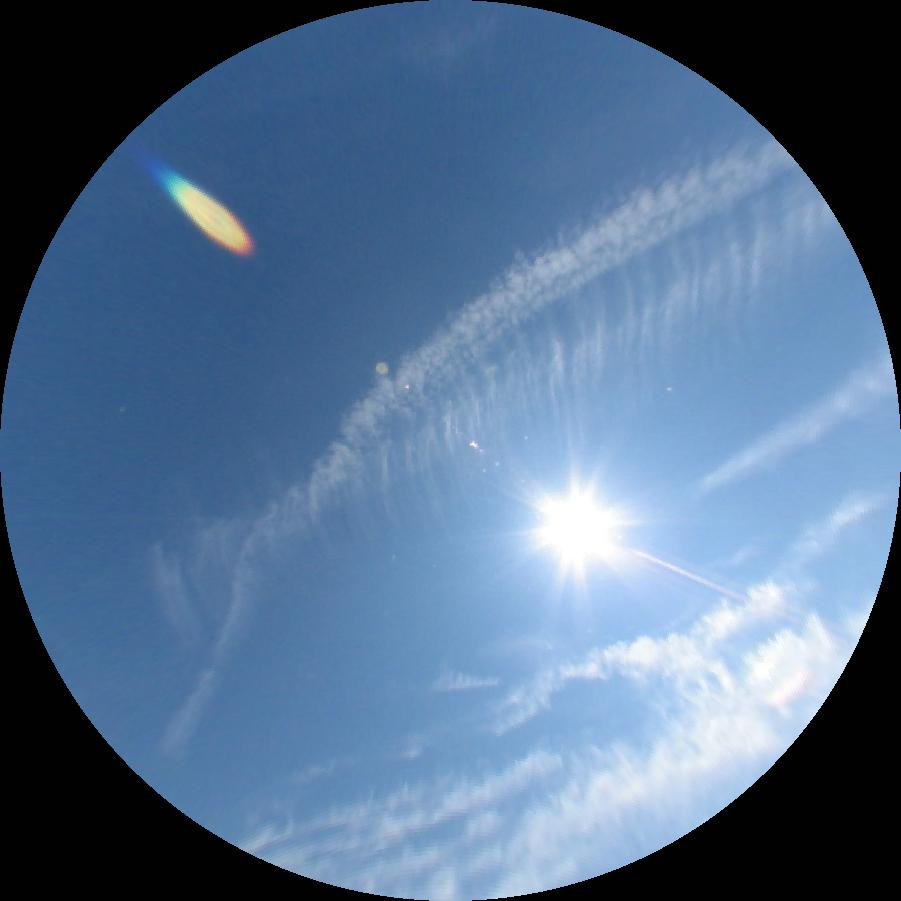contrail veryold: (155, 124, 801, 761), (145, 171, 856, 641), (700, 342, 897, 494)
parasite: (629, 548, 805, 625)
sun: (553, 505, 611, 550)
